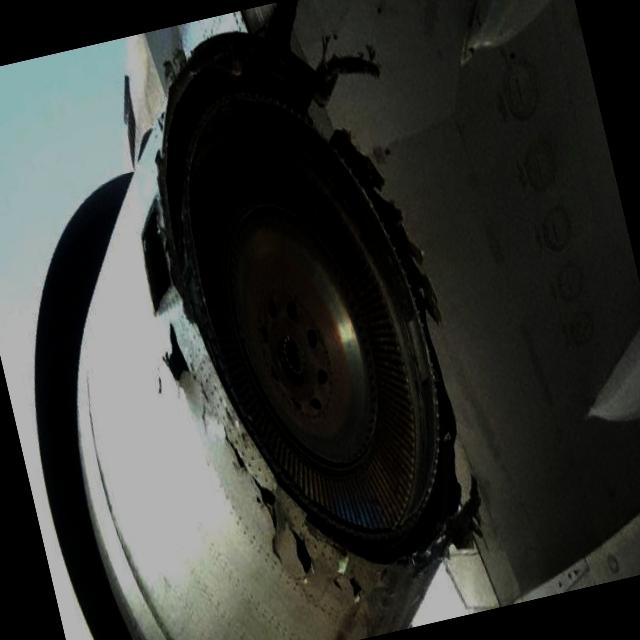crack: (150, 288, 371, 640)
